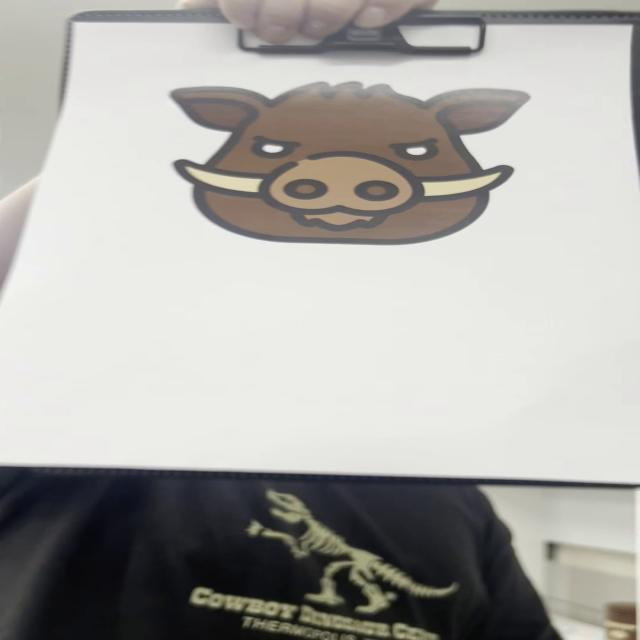animal: (167, 79, 534, 249)
